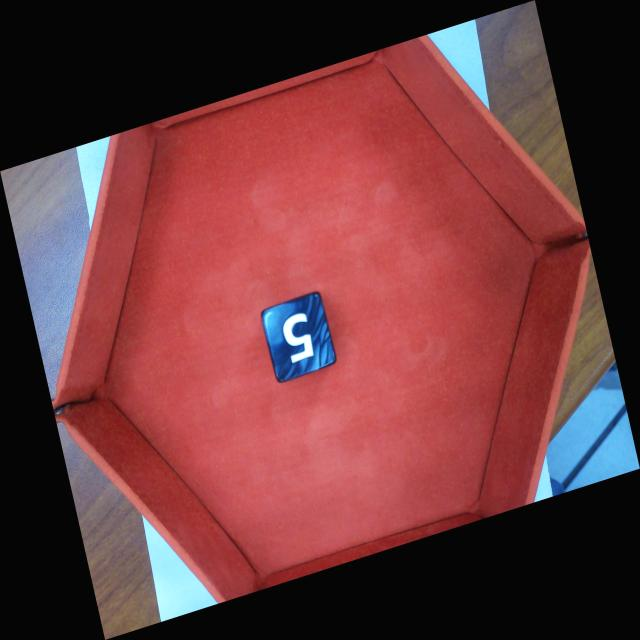dice: (257, 289, 339, 385)
